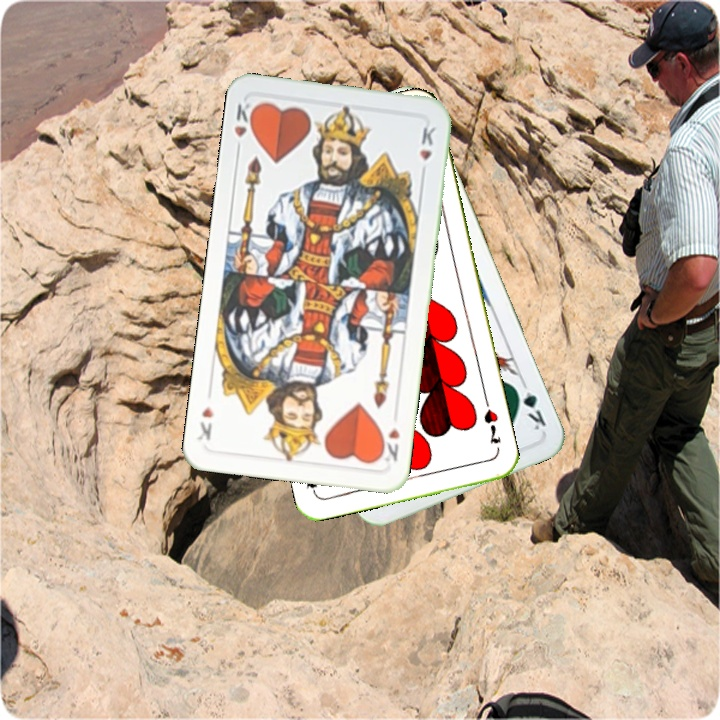GK: (510, 377, 549, 433)
H7: (479, 405, 504, 447)
HK: (230, 99, 259, 156), (375, 424, 403, 464)
